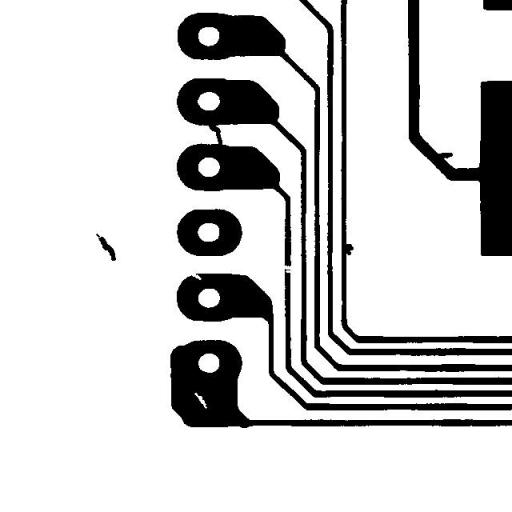copper: (88, 226, 123, 268)
mousebite: (180, 265, 209, 287)
open: (274, 258, 300, 280)
pin-hole: (186, 385, 214, 416)
short: (200, 114, 230, 154)
spur: (430, 144, 460, 166), (336, 236, 361, 262)
